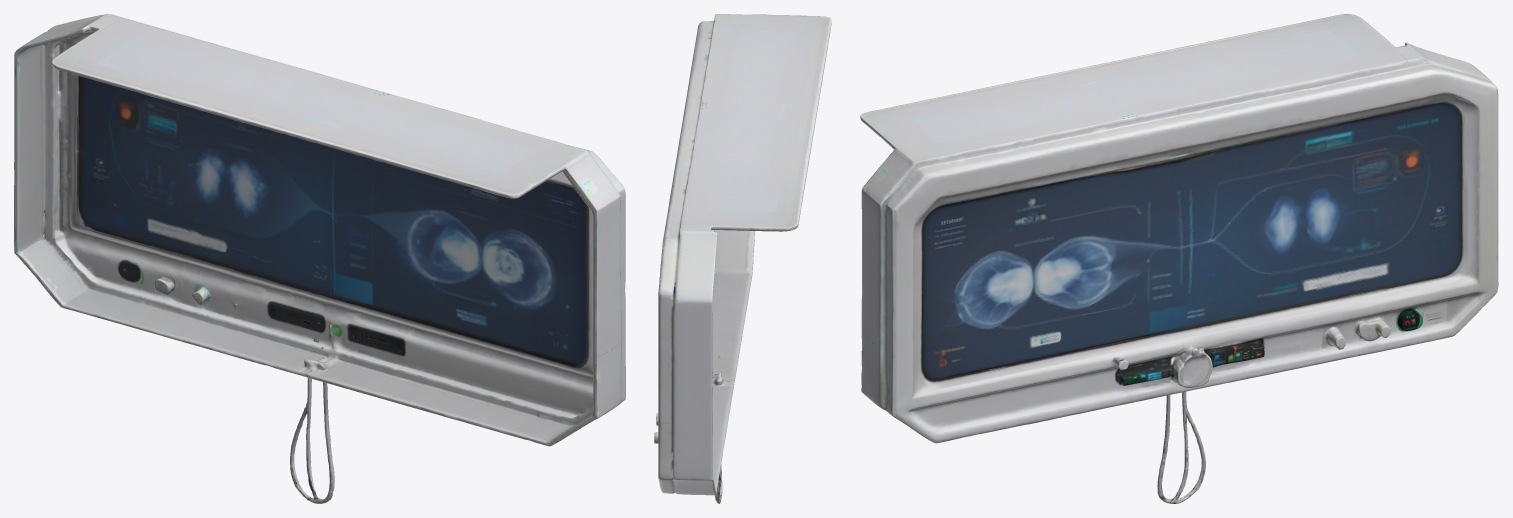
The model's file is vitacore-x_-_medical_equipment.glb.
3 views of the same model, side by side, from view 1: azimuth 30°, elevation 25°; view 2: azimuth 150°, elevation 25°; view 3: azimuth 270°, elevation 25° (orthographic). The views are drawn at different scales.
Visible parts, largest first — view 1: Object_4, Object_5; view 2: Object_4, Object_5; view 3: Object_4, Object_5.
Part boxes in pixels (x1=…): Object_4: x1=14, y1=14, x2=625, y2=503; Object_5: x1=19, y1=22, x2=625, y2=440; Object_4: x1=654, y1=14, x2=831, y2=503; Object_5: x1=659, y1=16, x2=829, y2=494; Object_4: x1=860, y1=14, x2=1498, y2=503; Object_5: x1=861, y1=32, x2=1492, y2=481.
Size of the model in its own units: 1.1 by 1.3 by 1.84.
Materials: 1 (1 with a texture image).
